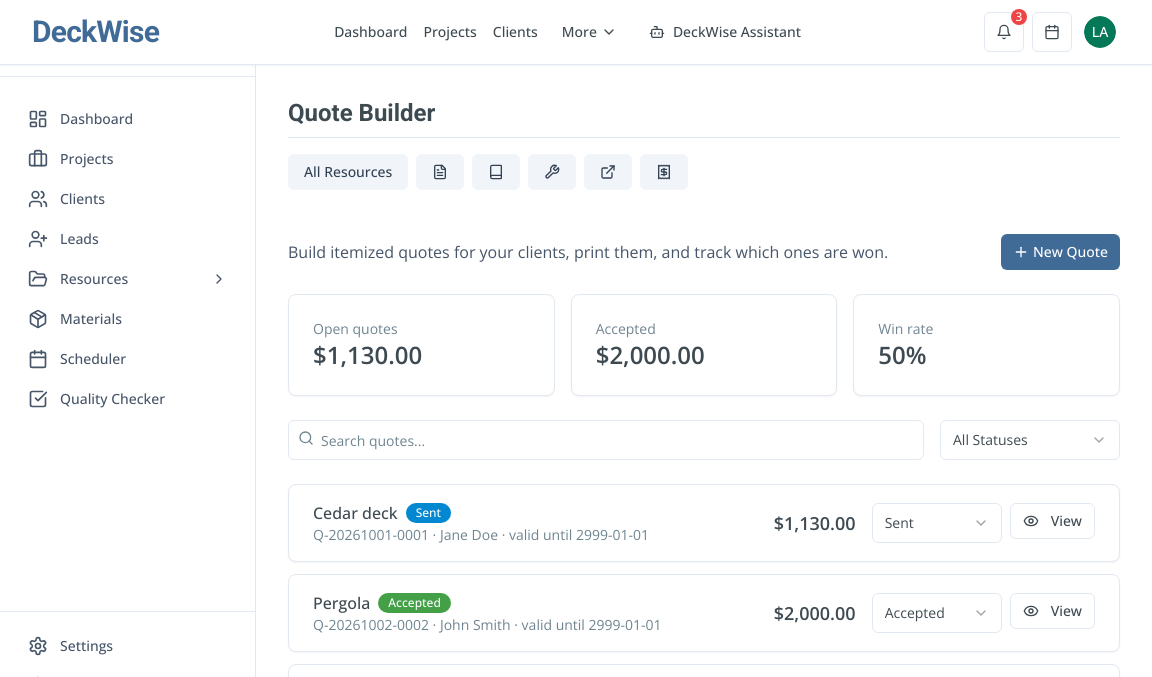
Test: Quotes page › opens a printable preview with line items and totals
The width and height of the screenshot is (1152, 677).
Expected: the text "Cedar deck" is shown, [313,501,398,525]
Click the button with aria-label "View Q-20261001-0001": point(1052, 521) [1010,503,1095,539]
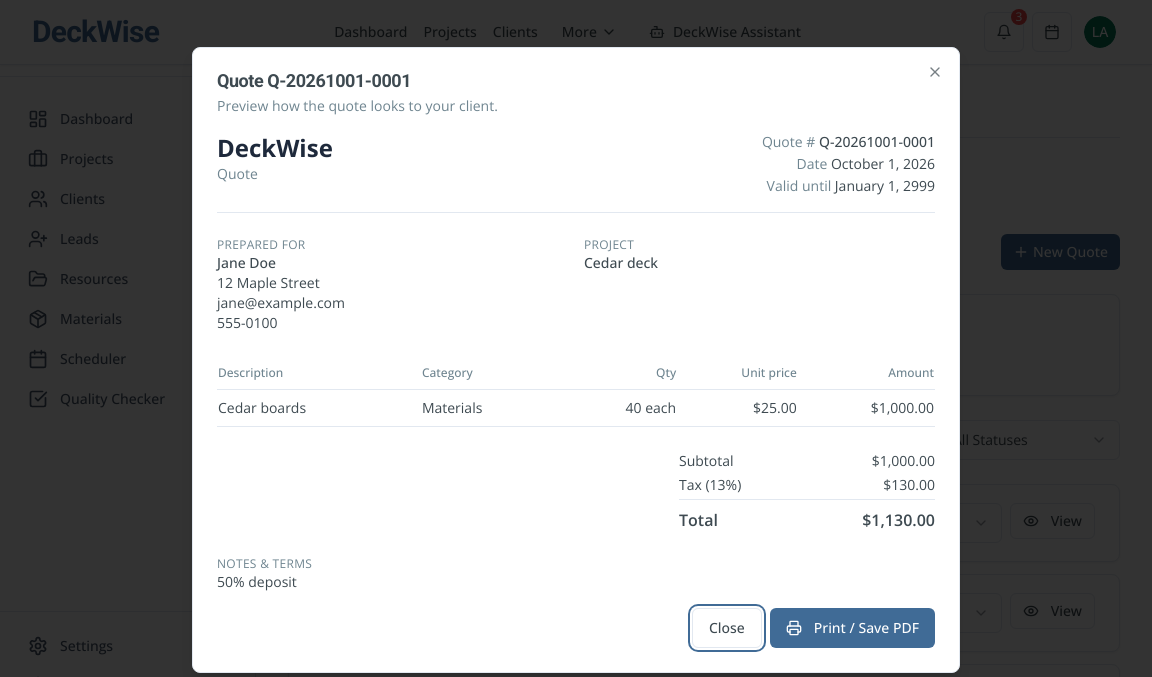
Result: the text "Cedar boards" is shown at [217,390,421,426]
Result: the text "12 Maple Street" is shown at [217,273,320,292]
Result: the text "Tax (13%)" is shown at [679,475,741,495]
